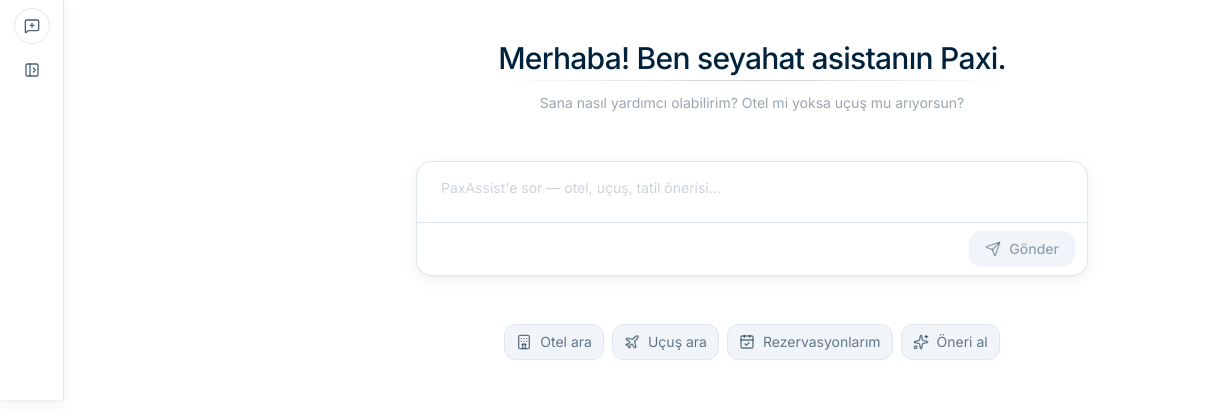
Test: ChatPage (MSW ile uçtan uca) › elle yazılan "/ucus" komutu backend'e ham gitmez; doğal cümleye çevrilip uçuş akışına girer
Type "/ucus" into the dropdown named "Mesaj" at (752,192), box [425,170,1079,214]
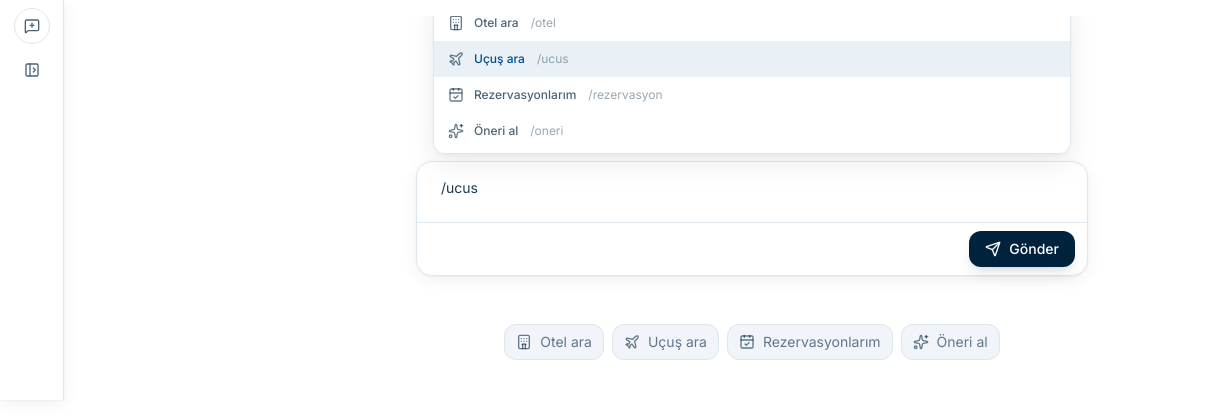
Click the button "Gönder" at (1022,249), box [969,231,1075,267]
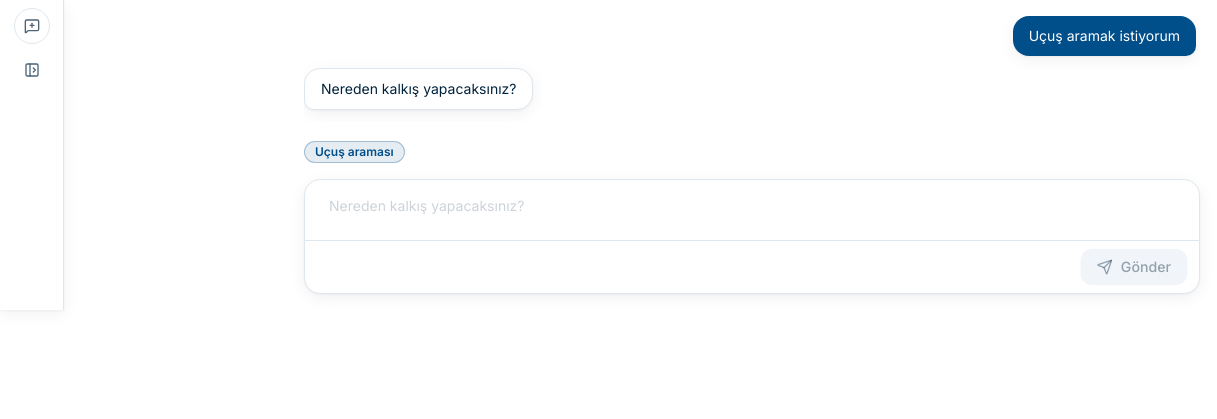
expect the text "Uçuş aramak istiyorum" is shown: met, box [1013,16,1196,56]
expect the text "Nereden kalkış yapacaksınız?" is shown: met, box [304,68,533,110]
